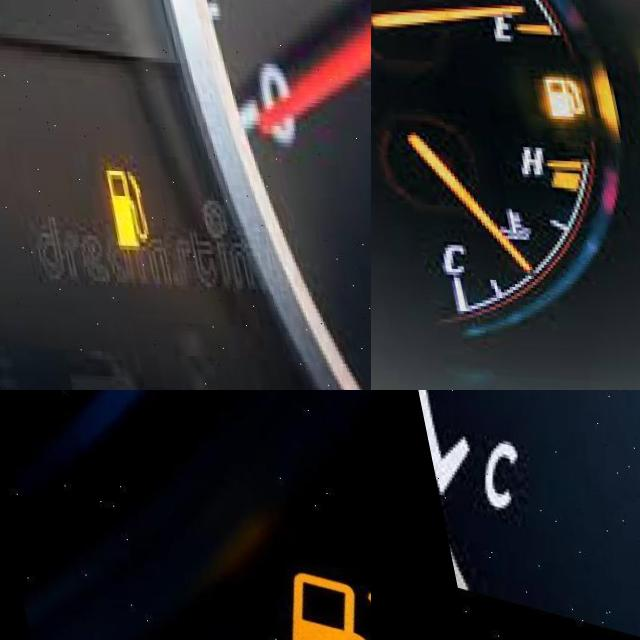High Engine Coolant Temperature: (478, 201, 514, 238)
